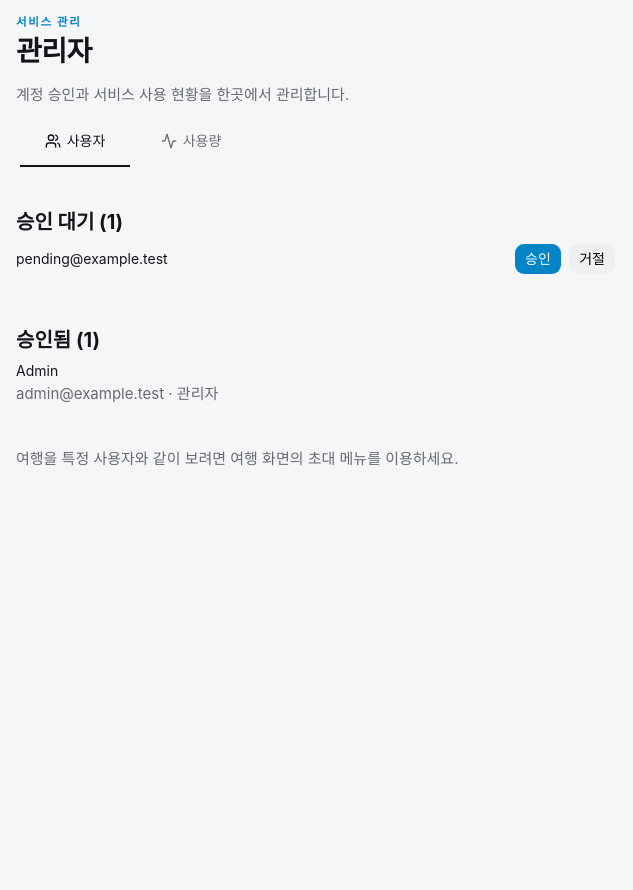
Test: administrator usage › summarizes authoritative Google metrics without relying on the chart color
Click the tab "사용량" at (191, 141), box left=135, top=119, right=247, bottom=163
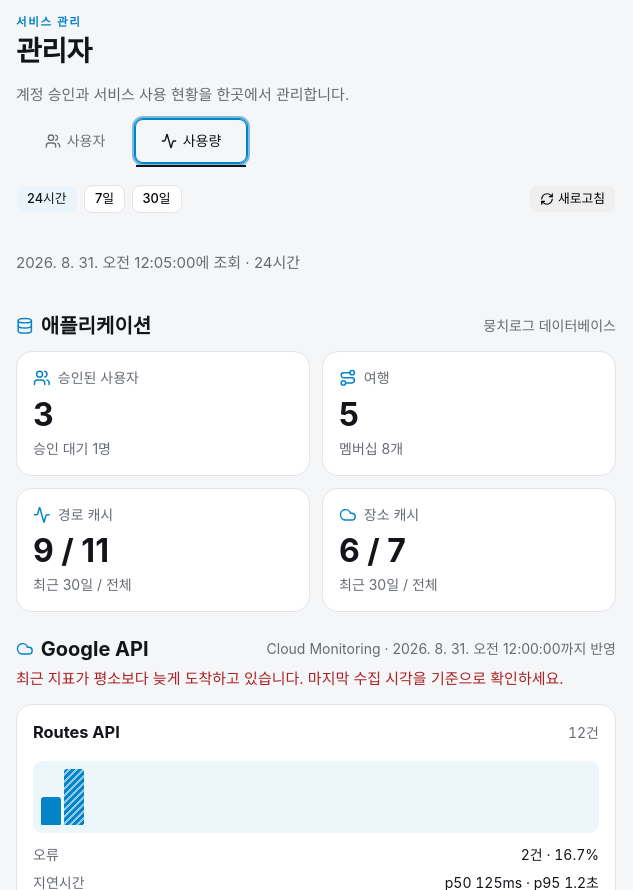
Result: the heading "Routes API" is shown at left=33, top=721, right=120, bottom=745
Result: the text "2건 · 16.7%" is shown at left=521, top=846, right=599, bottom=866
Result: the picture named "Routes API: 2개 구간에서 요청 12건, 최대 구간 8건" is shown at left=33, top=761, right=599, bottom=833
